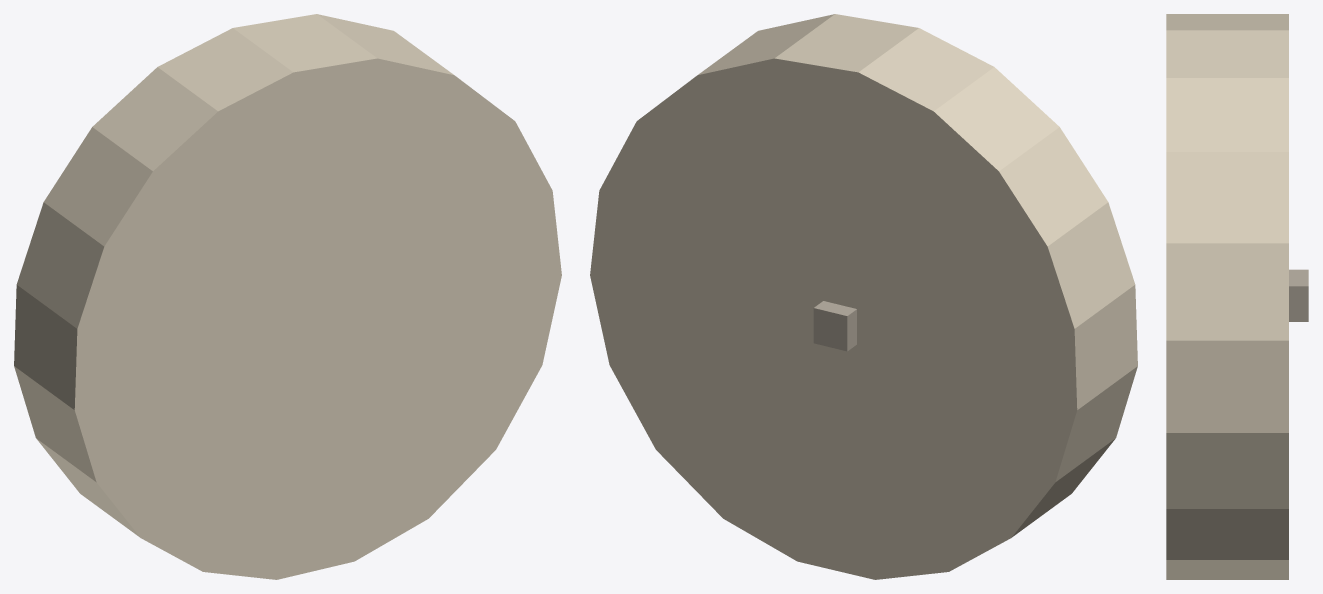
File: historic-palestine-13_27_3547_3214.glb
3 renders of one model, left to right at view 1: azimuth 30°, elevation 25°; view 2: azimuth 150°, elevation 25°; view 3: azimuth 270°, elevation 25°, orthographic.
Visible parts, largest first — view 1: Building_; view 2: Building_, Roof access hut; view 3: Building_, Roof access hut.
Boxes of the visible parts, x1,y1,x2,y2 form: Building_: [14, 14, 561, 579]; Building_: [590, 14, 1137, 579]; Roof access hut: [813, 301, 856, 351]; Building_: [1166, 14, 1288, 579]; Roof access hut: [1289, 269, 1308, 321].
Size of the model in its own units: 34.73 by 34.33 by 8.7.
